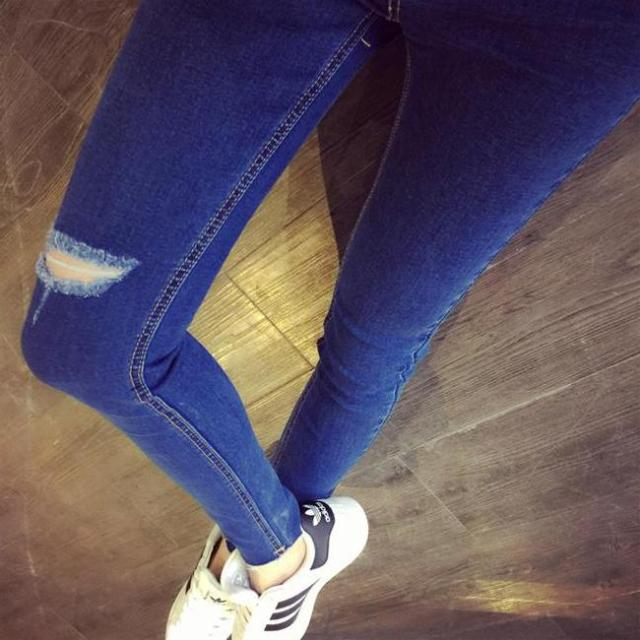trousers: (28, 3, 639, 562)
